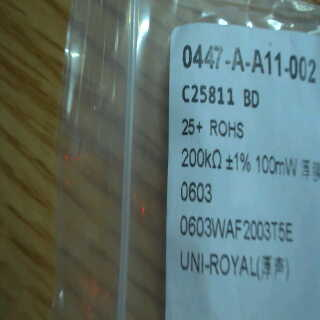200kR: (173, 144, 223, 178)
